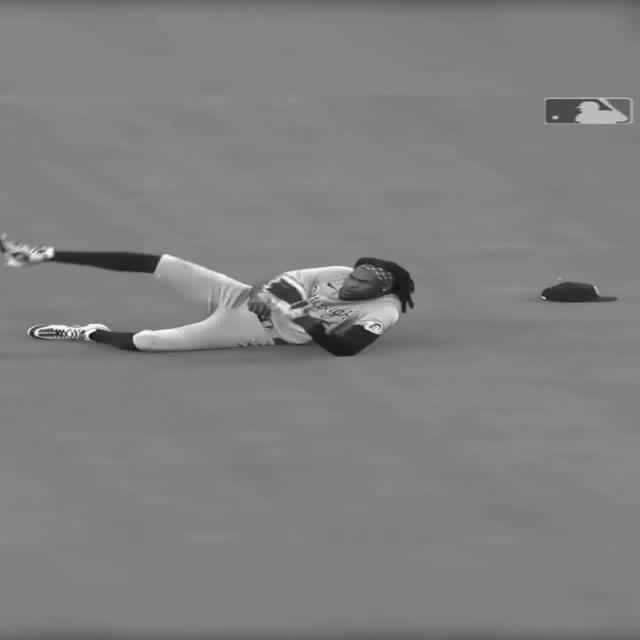baseball_glove: (255, 273, 319, 316)
shoe: (0, 234, 55, 271), (28, 321, 110, 343)
